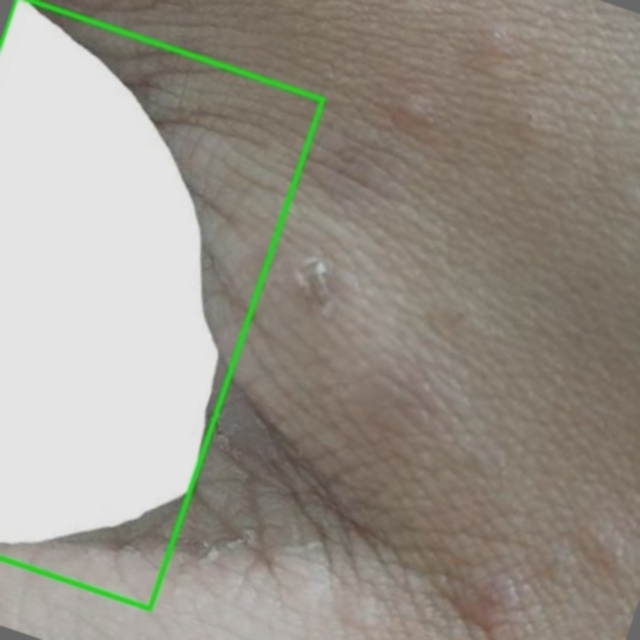Scabies: (0, 0, 322, 608)
